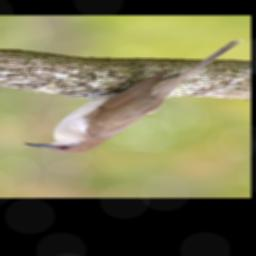Cuckoo: (21, 39, 243, 154)
